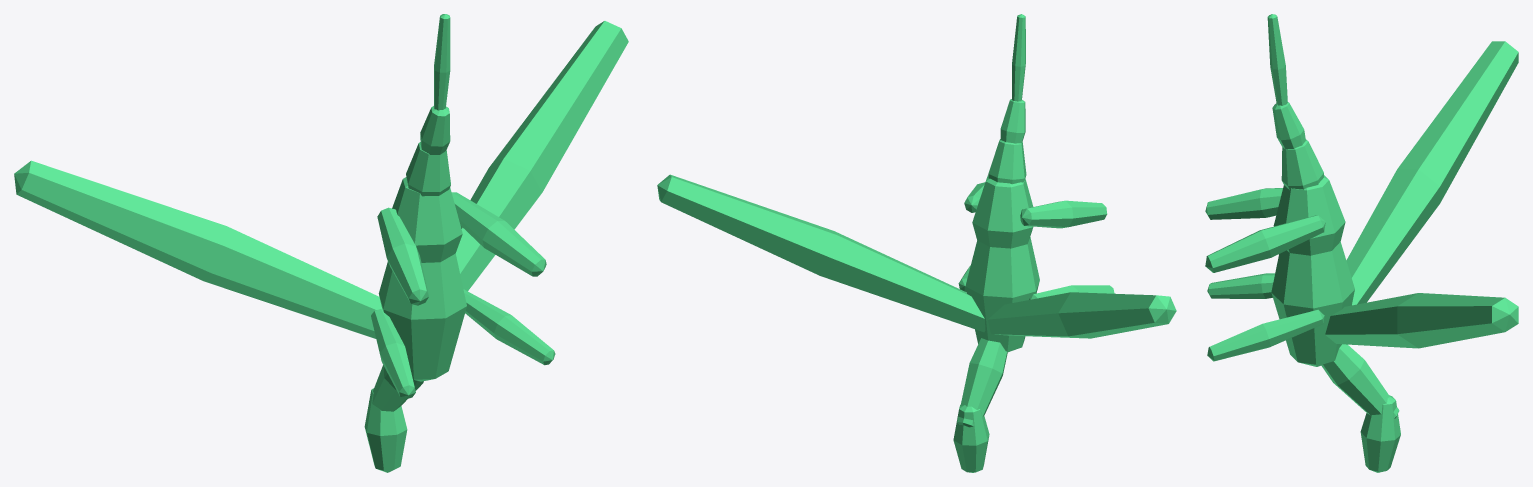
File: dragon_collision.glb
3 views of the same model, side by side, from view 1: azimuth 30°, elevation 25°; view 2: azimuth 150°, elevation 25°; view 3: azimuth 270°, elevation 25° (orthographic). The views are drawn at different scales.
Parts seen in each view (by area): view 1: Wing_Collision_R, Wing_Collision_L, Chest_Collision, Pelvis_Collision, RearLeg_Collision_L, RearLeg_Collision_R, FrontLeg_Collision_L, Head_Collision, FrontLeg_Collision_R, Tail_Collision_01, Tail_Collision_03, Tail_Collision_02 (+1 smaller); view 2: Wing_Collision_L, Wing_Collision_R, Chest_Collision, Pelvis_Collision, Neck_Collision, RearLeg_Collision_R, Head_Collision, Tail_Collision_01, Tail_Collision_03, Tail_Collision_02, FrontLeg_Collision_R; view 3: Wing_Collision_R, Wing_Collision_L, Chest_Collision, Pelvis_Collision, RearLeg_Collision_L, Neck_Collision, FrontLeg_Collision_L, Head_Collision, RearLeg_Collision_R, Tail_Collision_01, FrontLeg_Collision_R, Tail_Collision_03 (+1 smaller).
Boxes of the visible parts, x1,y1,x2,y2 form: Wing_Collision_R: (14, 160, 382, 338); Wing_Collision_L: (455, 21, 628, 291); Chest_Collision: (378, 253, 466, 381); Pelvis_Collision: (392, 177, 462, 262); RearLeg_Collision_L: (451, 192, 546, 276); RearLeg_Collision_R: (377, 207, 428, 305); FrontLeg_Collision_L: (463, 289, 555, 365); Head_Collision: (364, 388, 407, 472); FrontLeg_Collision_R: (371, 309, 415, 399); Tail_Collision_01: (406, 142, 450, 196); Tail_Collision_03: (434, 14, 450, 110); Tail_Collision_02: (420, 106, 450, 154); Wing_Collision_L: (657, 174, 985, 332); Wing_Collision_R: (988, 292, 1176, 338); Chest_Collision: (965, 237, 1039, 352); Pelvis_Collision: (972, 175, 1033, 248); Neck_Collision: (957, 338, 1007, 427); RearLeg_Collision_R: (1020, 200, 1107, 228); Head_Collision: (953, 405, 989, 472); Tail_Collision_01: (988, 139, 1026, 184); Tail_Collision_03: (1012, 14, 1025, 101); Tail_Collision_02: (1000, 99, 1025, 143); FrontLeg_Collision_R: (1029, 285, 1114, 299); Wing_Collision_R: (1346, 41, 1518, 305); Wing_Collision_L: (1325, 293, 1518, 348); Chest_Collision: (1271, 242, 1354, 366); Pelvis_Collision: (1273, 175, 1345, 255); RearLeg_Collision_L: (1205, 215, 1325, 272); Neck_Collision: (1321, 344, 1399, 418); FrontLeg_Collision_L: (1207, 309, 1324, 361); Head_Collision: (1360, 395, 1400, 472); RearLeg_Collision_R: (1205, 188, 1282, 219); Tail_Collision_01: (1281, 139, 1323, 189); FrontLeg_Collision_R: (1207, 273, 1274, 298); Tail_Collision_03: (1267, 14, 1287, 105).
Bounding box in the file's own units: 19.62 × 15.47 × 9.57.
